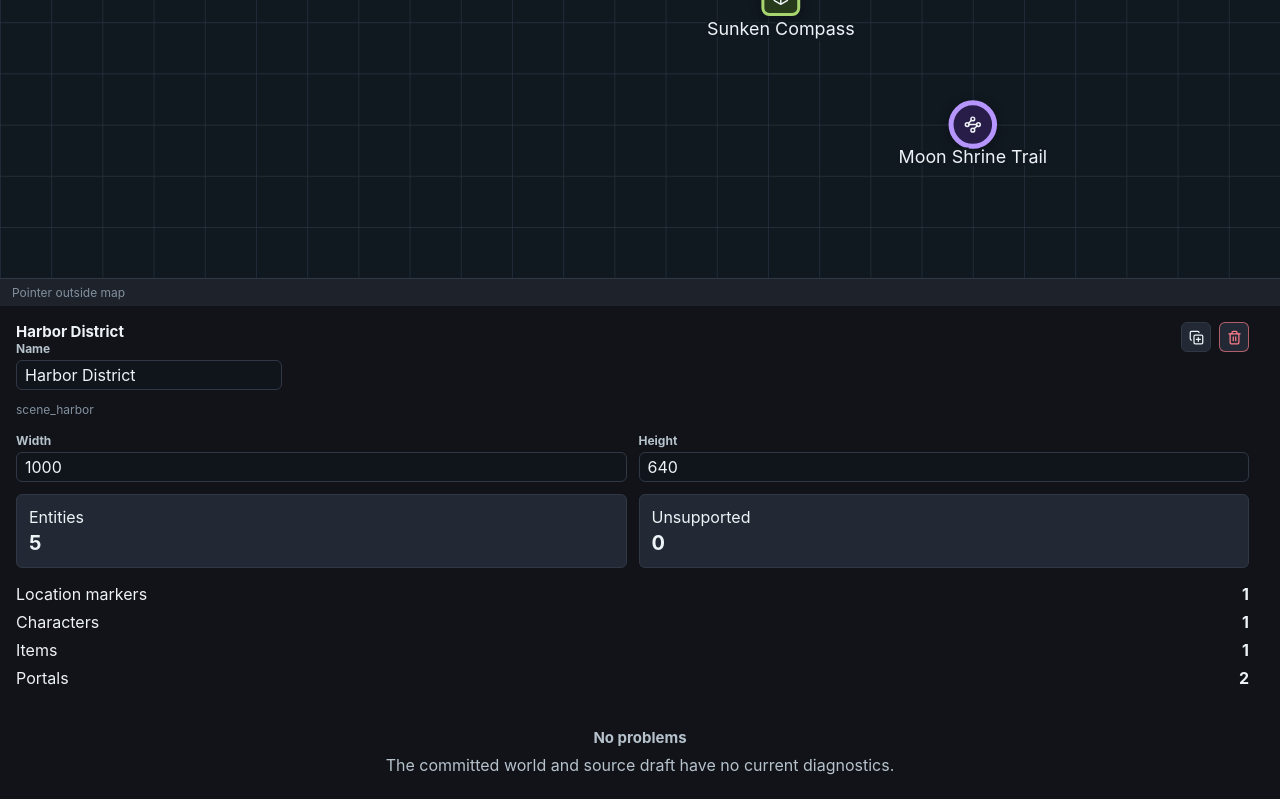
synchronized editor views › editing scene bounds in Properties updates the map and synchronized source
This screenshot has width=1280, height=799.
(page scrolled)
Replace the text in the field named "Scene width" with "1200". click: (321, 467)
box: [16,452,626,482]
Then press Enter
(page scrolled)
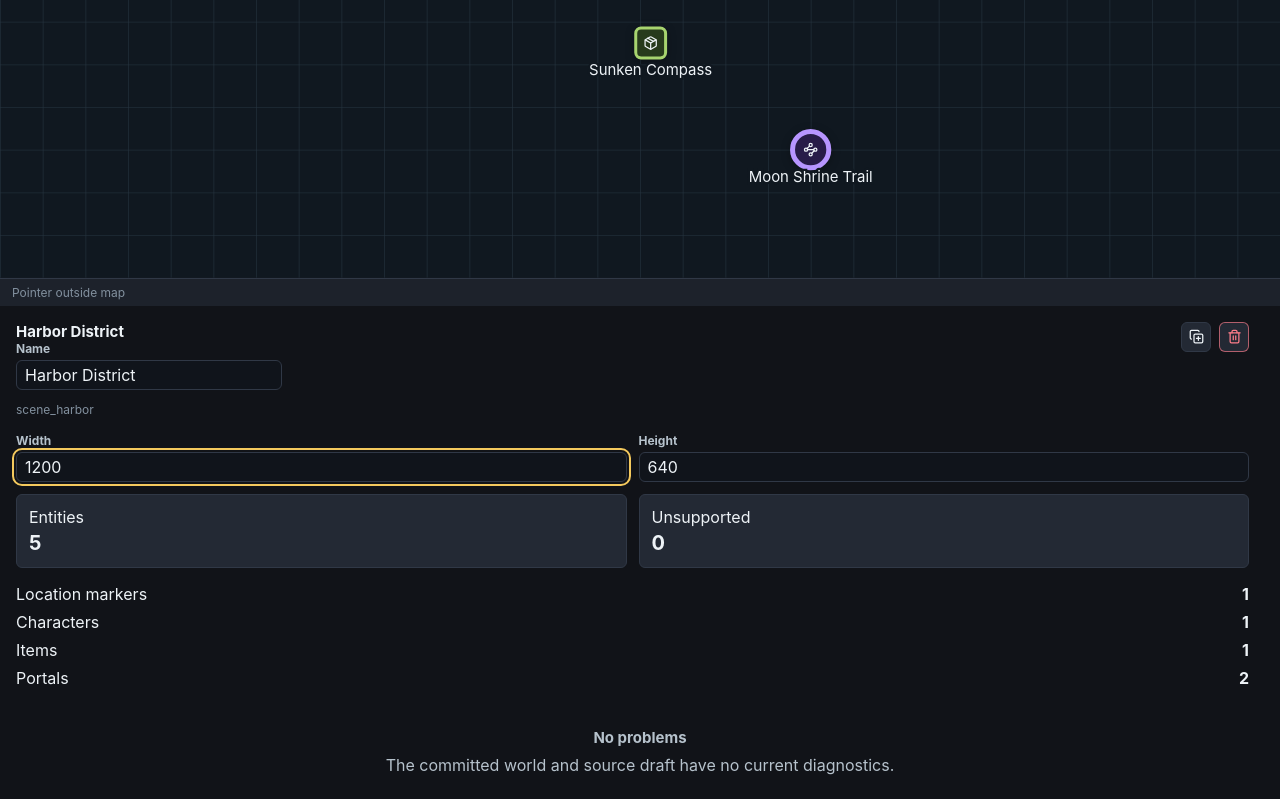
Replace the text in the field named "Scene height" with "720". click: (944, 467)
box: [638,452,1249,482]
Then press Enter
(page scrolled)
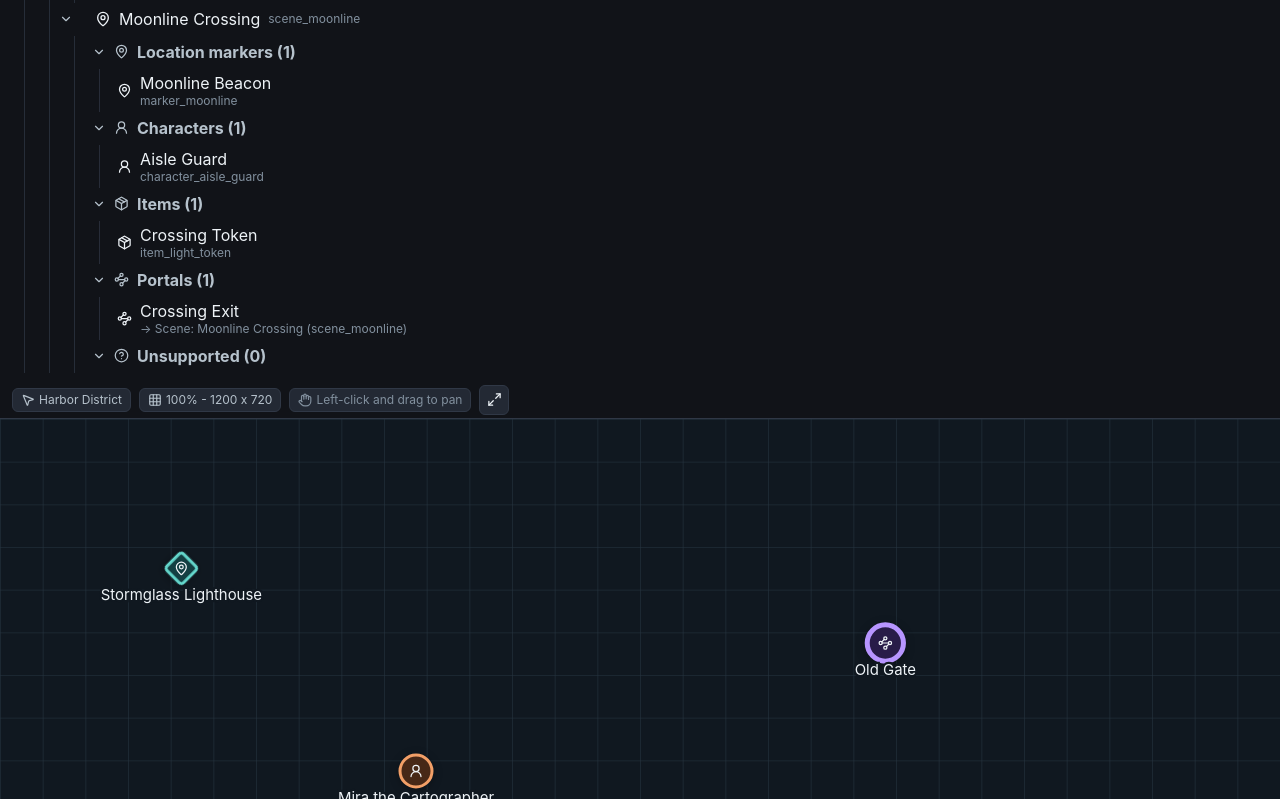
expect the text "100% - 1200 x 720" is shown: met, box [139,388,281,412]
